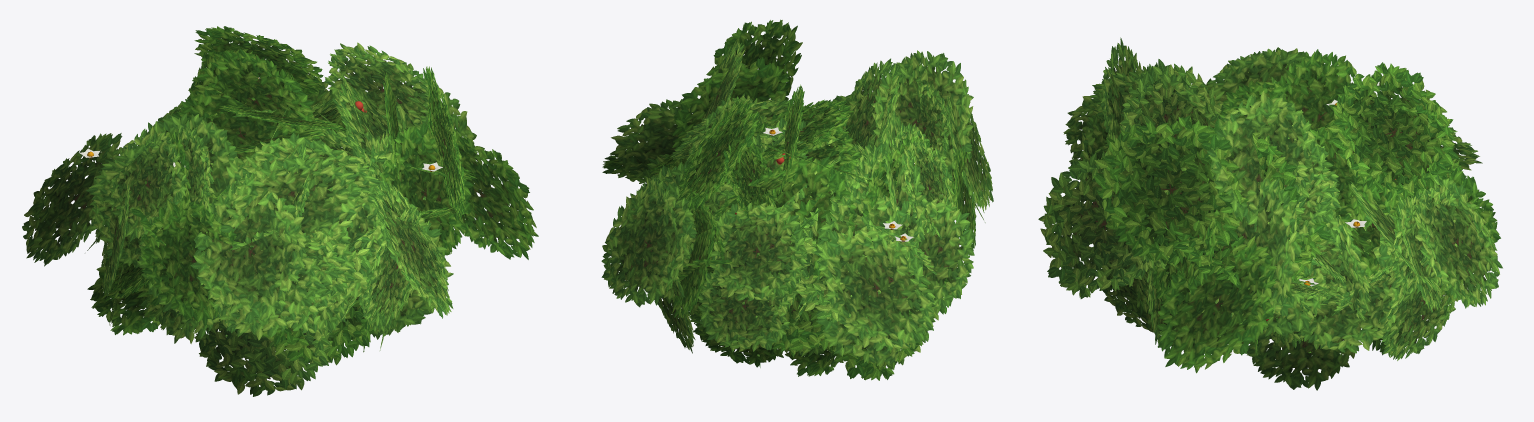
Rendered from matorral.gltf.
3 renders of one model, left to right at view 1: azimuth 30°, elevation 25°; view 2: azimuth 150°, elevation 25°; view 3: azimuth 270°, elevation 25°, orthographic. The views are drawn at different scales.
Visible parts, largest first — view 1: matorral; view 2: matorral; view 3: matorral.
Part boxes in pixels (box(x1,y1,x2,y2)): matorral: box(22, 26, 538, 396); matorral: box(601, 19, 993, 380); matorral: box(1038, 37, 1502, 390).
Size of the model in its own units: 3.58 by 2.66 by 3.31.
6 materials, 6 textured.
